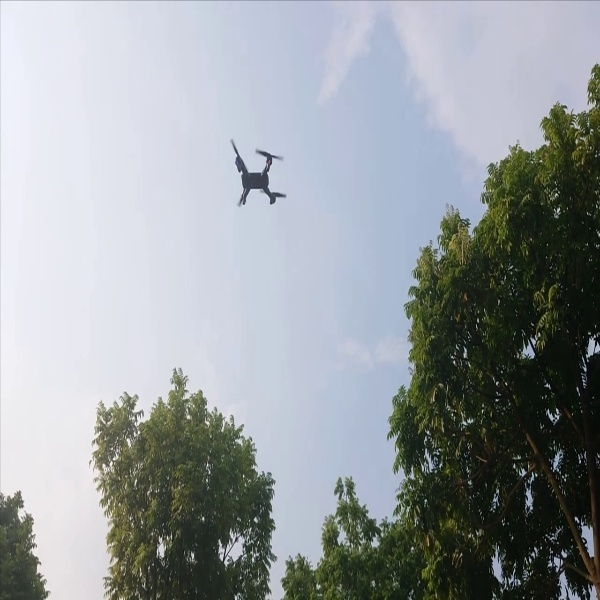drone: (219, 132, 297, 213)
